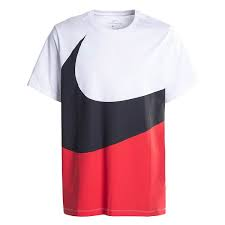nike: (54, 31, 174, 187)
